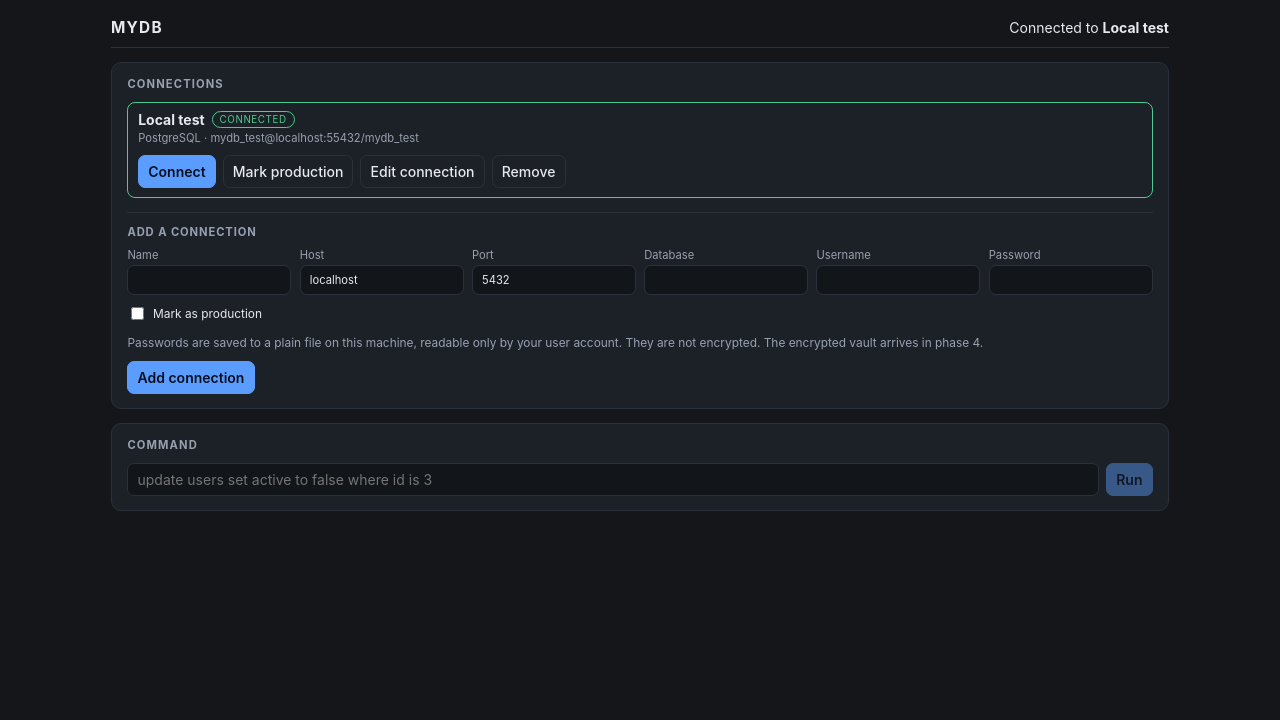
Test: the confirmation loop › runs the write only after confirm is pressed
Expected: the text "Connected to Local test" is shown, [1009,18,1169,36]
Type "delete users where active is false" into the field named "Command" at (613, 479), box [127,463,1099,496]
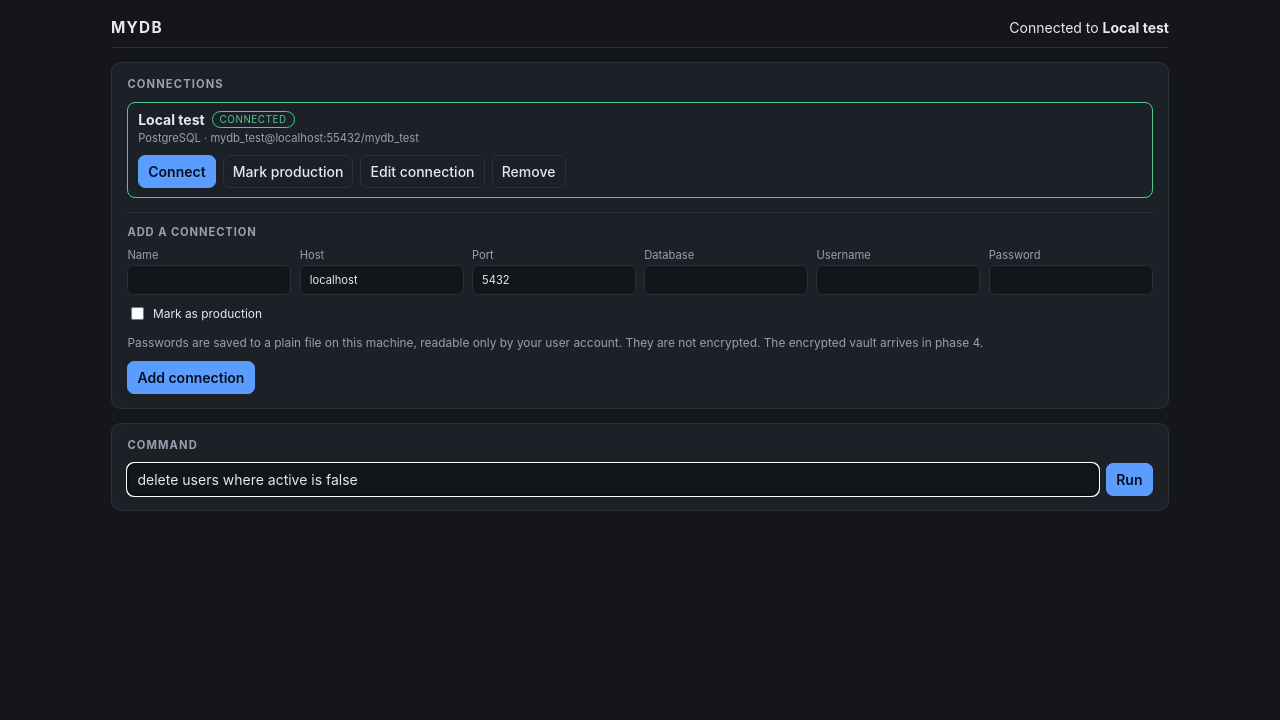
Click the button "Run" at (1129, 479), box [1106,463,1153,496]
(page scrolled)
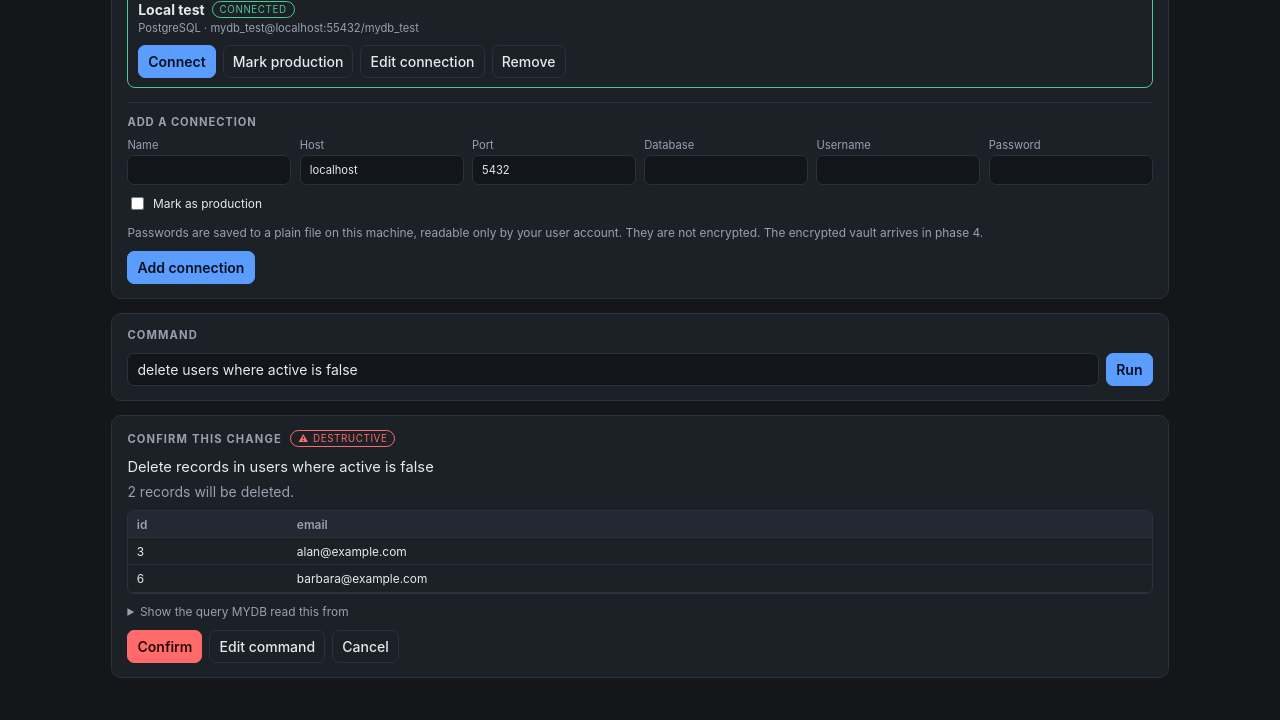
Click the button "Confirm" at (165, 646), box [127,630,202,663]
(page scrolled)
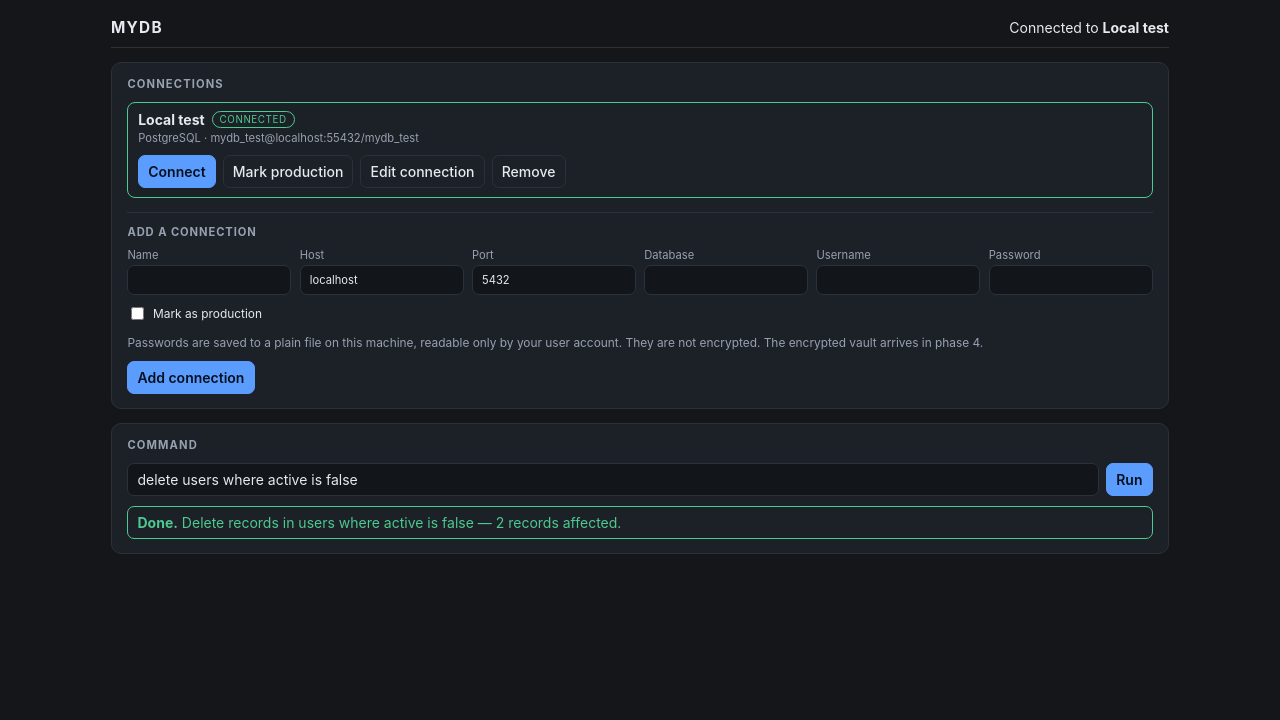
Expected: the text "Done. Delete records in users where active is false — 2 records affected." is shown, [127,506,1153,539]
